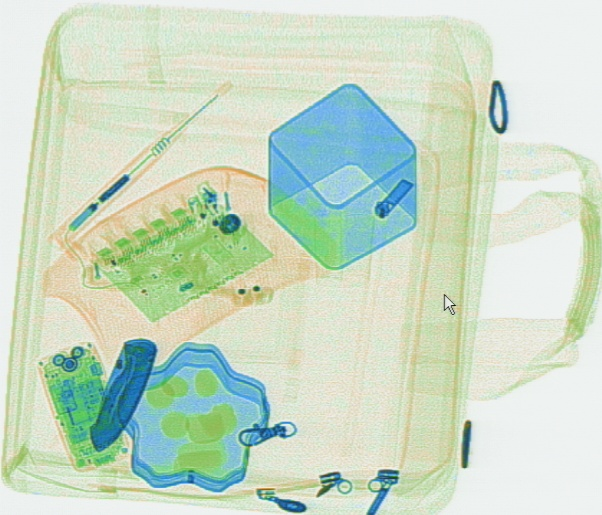knife: (86, 334, 157, 448)
